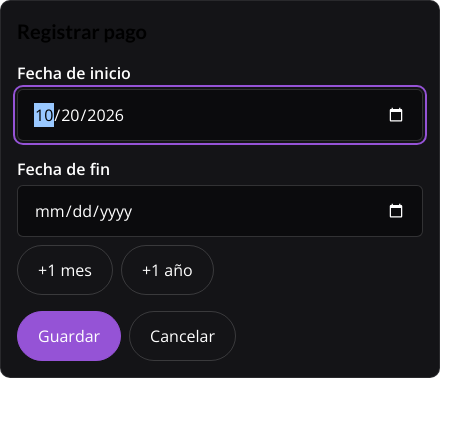
Test: PeriodForm › recording a payment › the shortcuts for the end › clears the complaint about the end once it fills it
The width and height of the screenshot is (457, 423).
Step 1. Submit the form
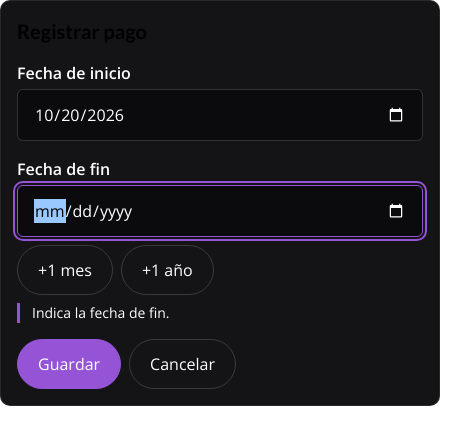
Expected: the text "Indica la fecha de fin." is shown, [17,303,423,323]
Step 2. Click the button "+1 mes" → (65, 270), box [17,245,113,295]
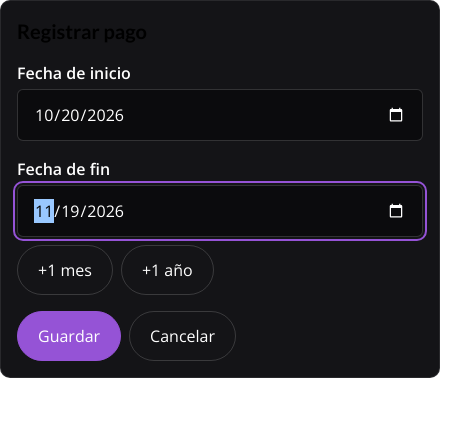
Expected: the text "Indica la fecha de fin." is gone
